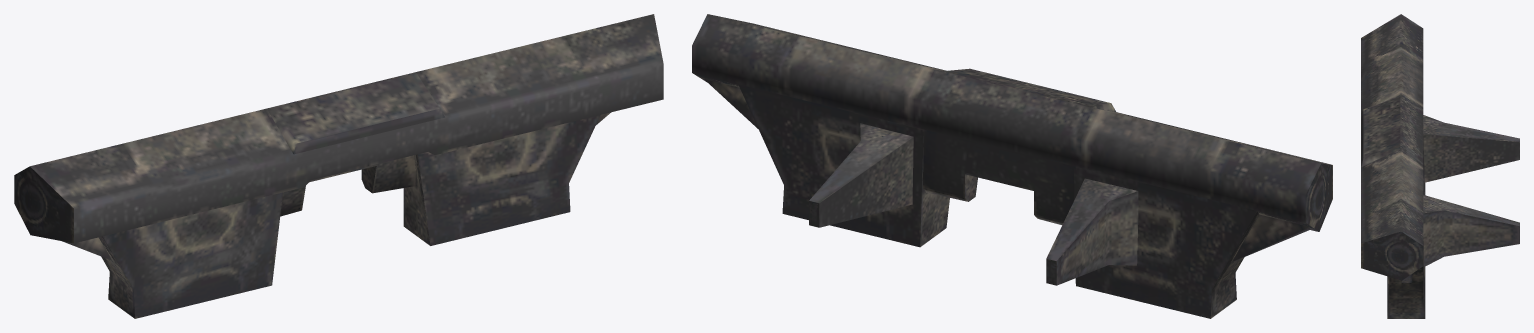
3 renders of one model, left to right at view 1: azimuth 30°, elevation 25°; view 2: azimuth 150°, elevation 25°; view 3: azimuth 270°, elevation 25°, orthographic. The views are drawn at different scales.
Visible parts, largest first — view 1: set_0_group_0; view 2: set_0_group_0; view 3: set_0_group_0.
Part boxes in pixels (box(x1,y1,x2,y2)): set_0_group_0: box(14, 14, 663, 318); set_0_group_0: box(692, 14, 1332, 318); set_0_group_0: box(1361, 14, 1519, 318).
Bounding box in the file's own units: 0.2402 × 0.062 × 0.0741.
Materials: 1 (1 with a texture image).
